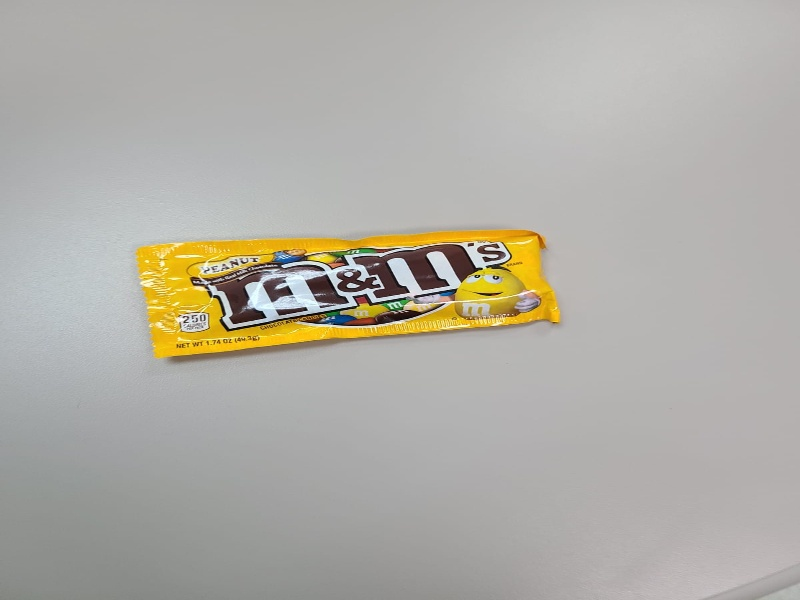m&m: (134, 227, 596, 356)
